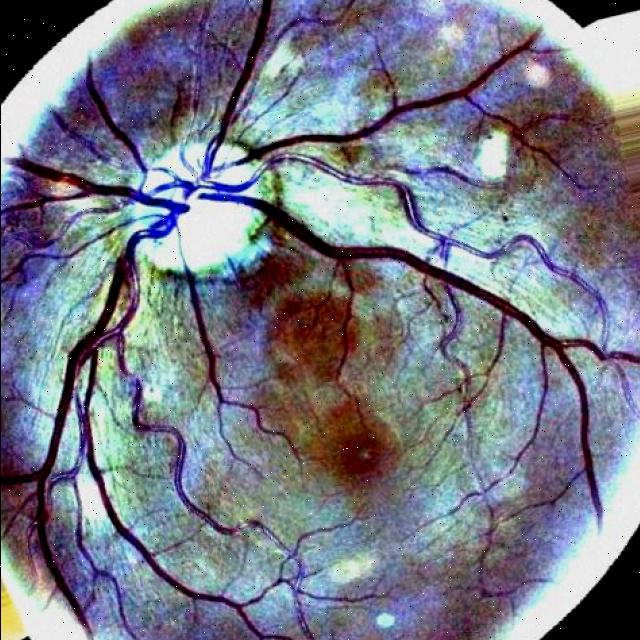Macula: (146, 143, 256, 277), (324, 416, 400, 499)
Nerves: (0, 0, 640, 626), (80, 359, 302, 640), (115, 344, 240, 533)
